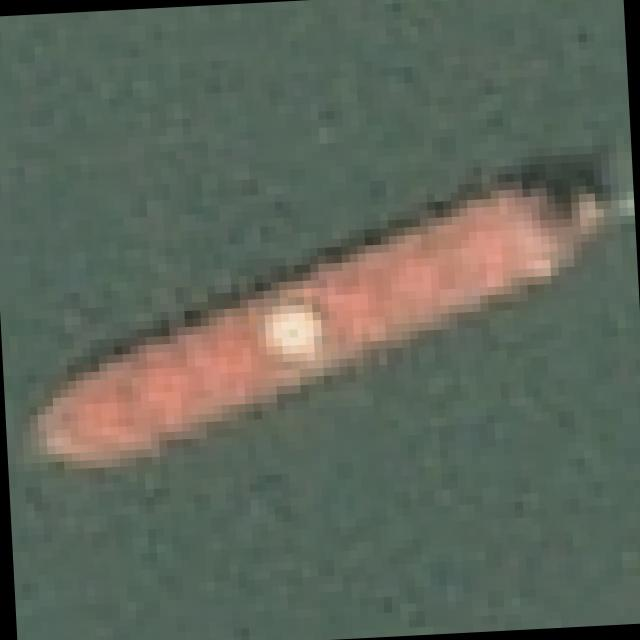ship: (6, 115, 634, 536)
